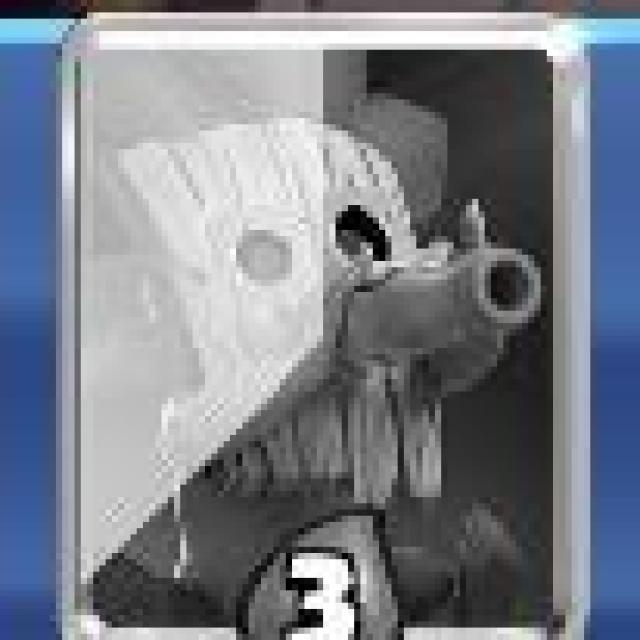Dart_Goblin: (62, 11, 597, 640)
